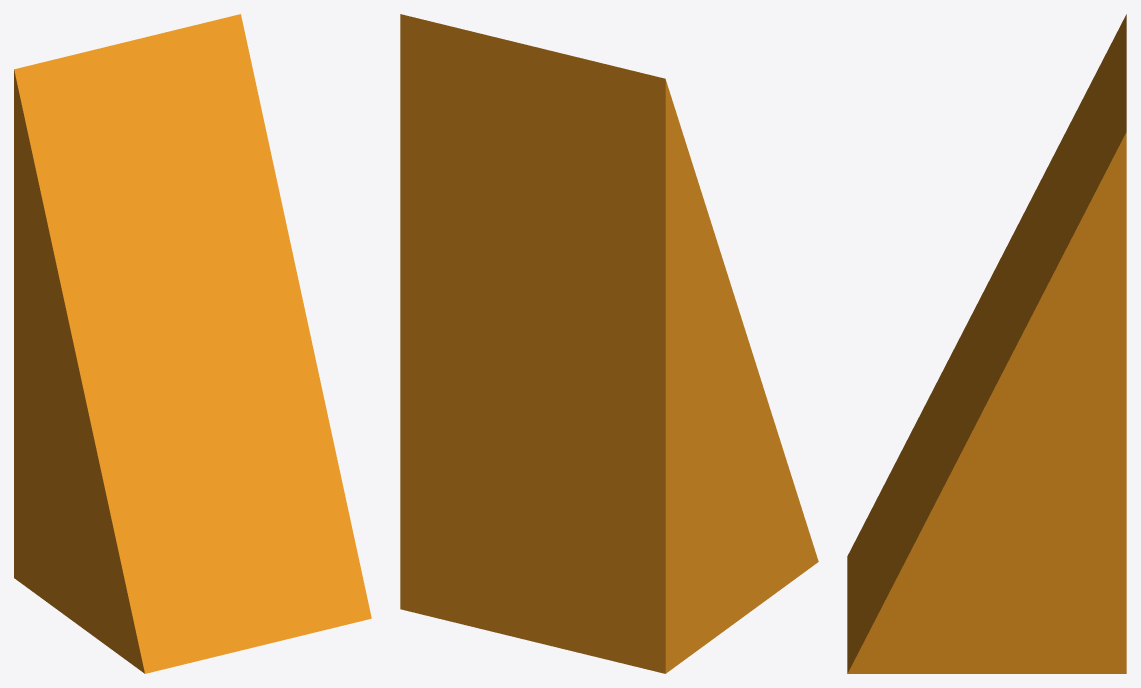
File: SM_Buildings_Ramp_65_1x1_01.fbx
3 renders of one model, left to right at view 1: azimuth 30°, elevation 25°; view 2: azimuth 150°, elevation 25°; view 3: azimuth 270°, elevation 25°, orthographic. The views are drawn at different scales.
Visible parts, largest first — view 1: SM_Buildings_Ramp_65_1x1_01; view 2: SM_Buildings_Ramp_65_1x1_01; view 3: SM_Buildings_Ramp_65_1x1_01.
Boxes of the visible parts, <box> form: SM_Buildings_Ramp_65_1x1_01: <box>14,14,371,673</box>; SM_Buildings_Ramp_65_1x1_01: <box>400,14,818,673</box>; SM_Buildings_Ramp_65_1x1_01: <box>847,14,1126,673</box>.
Bounding box in the file's own units: 100 × 214 × 100.
